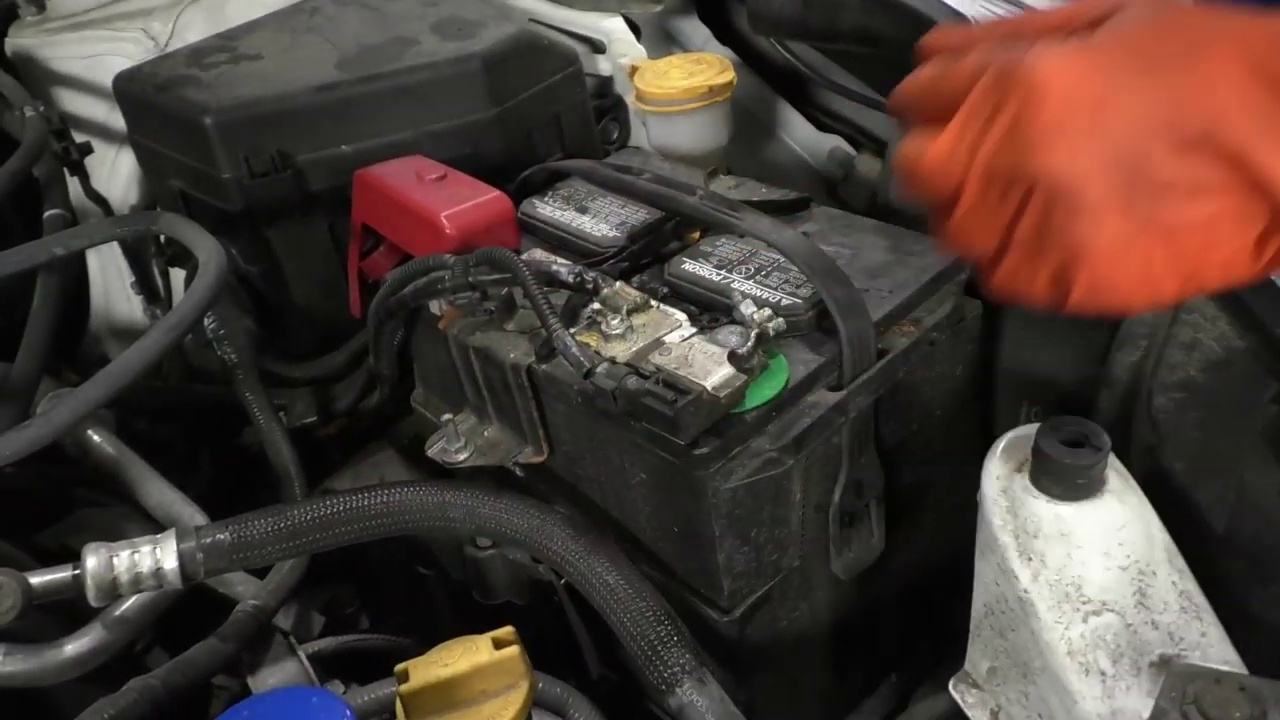battery: (337, 142, 990, 470)
neg_connected: (637, 287, 807, 434)
pos_connected: (328, 155, 520, 324)
